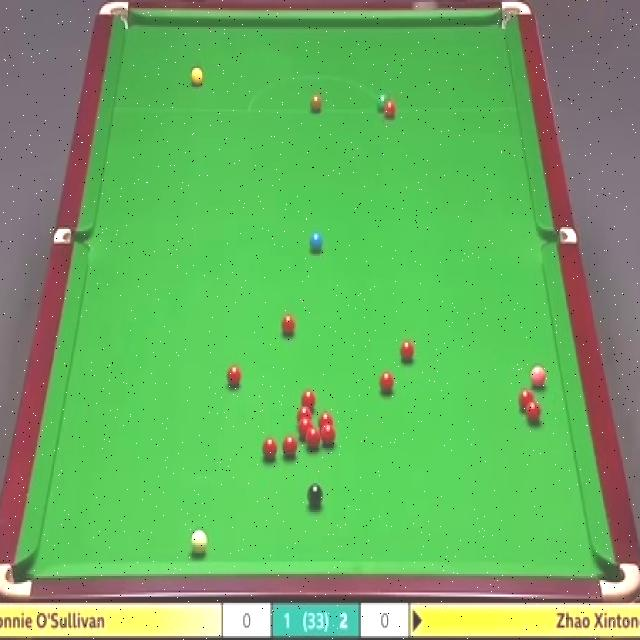black-ball: (307, 482, 323, 509)
blue-ball: (309, 231, 323, 250)
brown-ball: (309, 95, 323, 112)
green-ball: (377, 92, 390, 112)
pink-ball: (529, 365, 548, 386)
red-ball: (305, 427, 321, 453), (518, 389, 535, 413), (378, 372, 395, 394), (321, 424, 337, 446), (282, 435, 298, 457), (262, 437, 278, 459), (226, 366, 242, 386), (280, 313, 295, 334), (401, 341, 414, 362), (298, 421, 312, 440), (527, 403, 541, 422), (303, 389, 314, 411), (318, 412, 332, 429), (298, 410, 311, 426), (385, 101, 396, 118)
white-ball: (190, 529, 209, 555)
yellow-ball: (190, 66, 203, 87)
